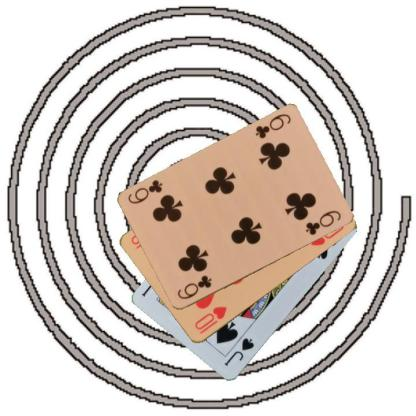10h: (192, 304, 228, 336)
6c: (252, 112, 292, 140), (175, 273, 213, 301)
Js: (222, 335, 256, 368)
